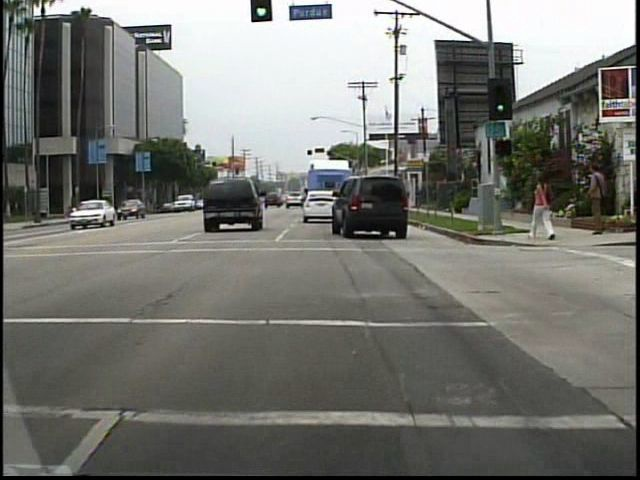person: (580, 157, 611, 241), (523, 171, 557, 246)
